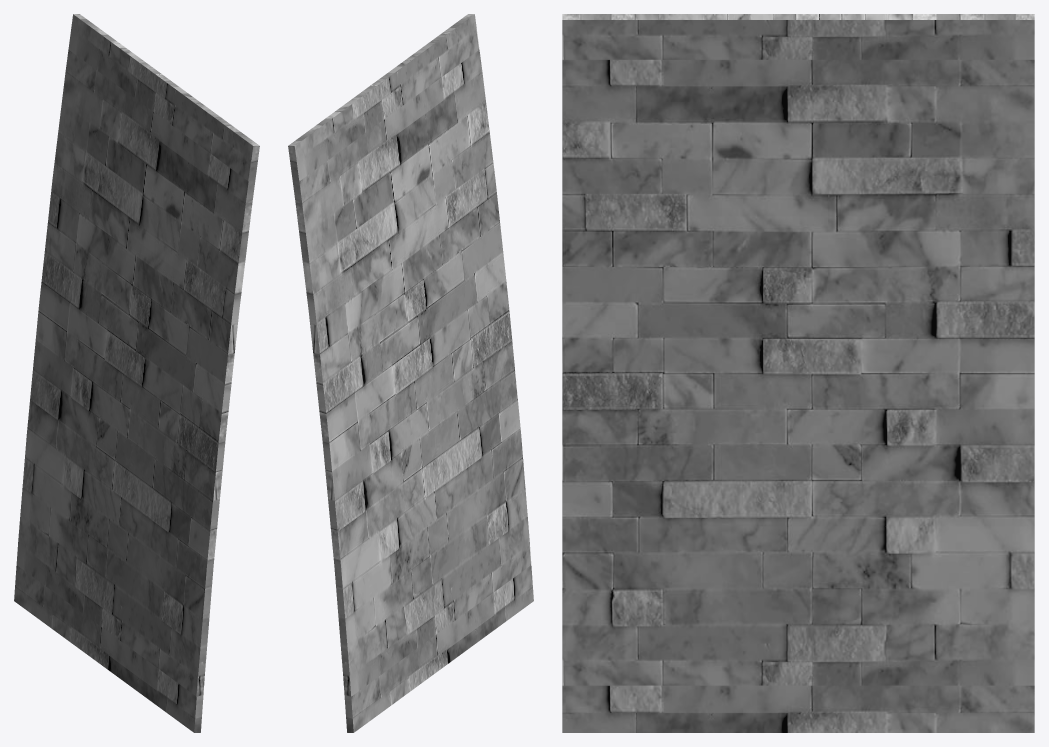
Rendered from back-splash-one.glb.
3 renders of one model, left to right at view 1: azimuth 30°, elevation 25°; view 2: azimuth 150°, elevation 25°; view 3: azimuth 270°, elevation 25°, orthographic. The views are drawn at different scales.
Visible parts, largest first — view 1: Cube; view 2: Cube; view 3: Cube.
Boxes of the visible parts, left/top/right/bottom form: Cube: left=14, top=14, right=259, bottom=732; Cube: left=288, top=14, right=533, bottom=732; Cube: left=562, top=14, right=1034, bottom=732.
Size of the model in its own units: 0.077 by 0.6427 by 0.3657.
1 material, 1 textured.
